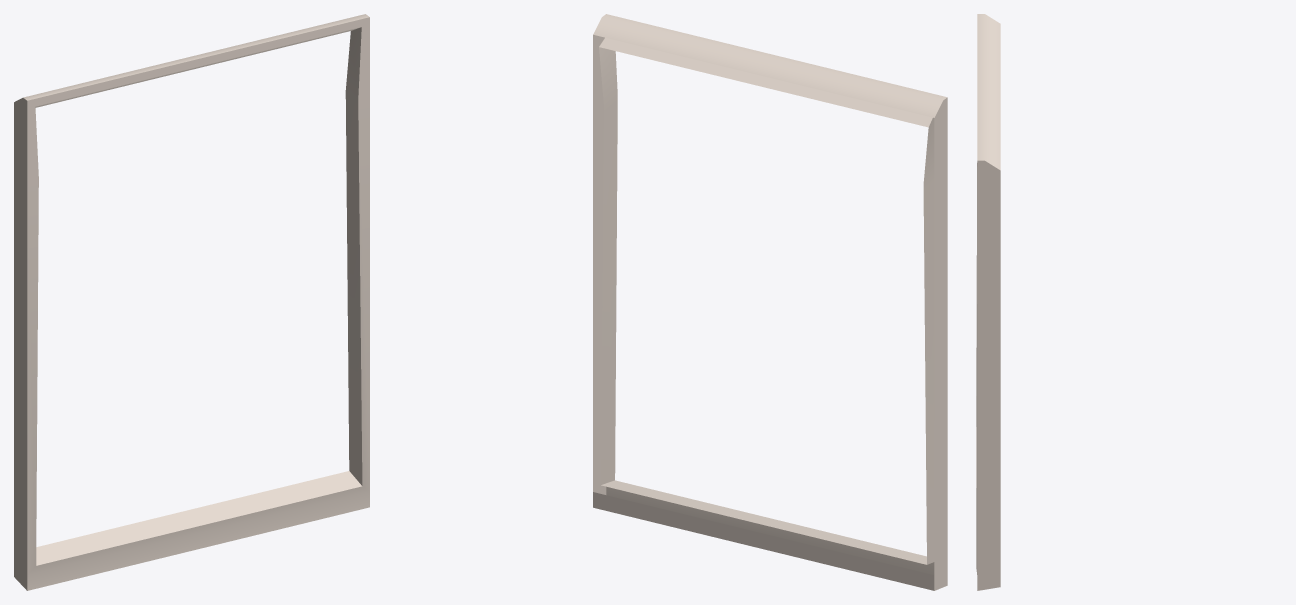
File: FridgeDrawer2_10_FridgeDrawer2B4_2_GeomSubset_0.obj
The picture shows the model from 3 angles, left to right: view 1: azimuth 30°, elevation 25°; view 2: azimuth 150°, elevation 25°; view 3: azimuth 270°, elevation 25°; orthographic projection. The views are drawn at different scales.
Parts seen in each view (by area): view 1: FridgeDrawer2_10_FridgeDrawer2B4_2_GeomSubset_0; view 2: FridgeDrawer2_10_FridgeDrawer2B4_2_GeomSubset_0; view 3: FridgeDrawer2_10_FridgeDrawer2B4_2_GeomSubset_0.
Boxes of the visible parts, bbox=[...] form: FridgeDrawer2_10_FridgeDrawer2B4_2_GeomSubset_0: bbox=[14, 14, 369, 590]; FridgeDrawer2_10_FridgeDrawer2B4_2_GeomSubset_0: bbox=[593, 14, 947, 590]; FridgeDrawer2_10_FridgeDrawer2B4_2_GeomSubset_0: bbox=[976, 14, 1000, 590].
Size of the model in its own units: 0.3804 by 0.4715 by 0.3035.
